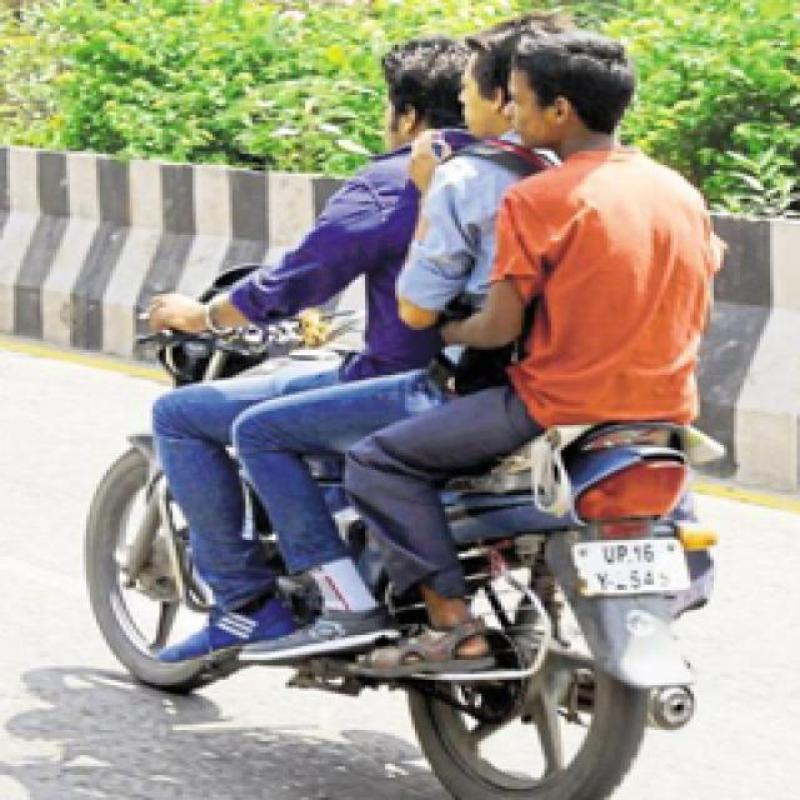nohelmet: (511, 36, 647, 148), (364, 26, 470, 146)
